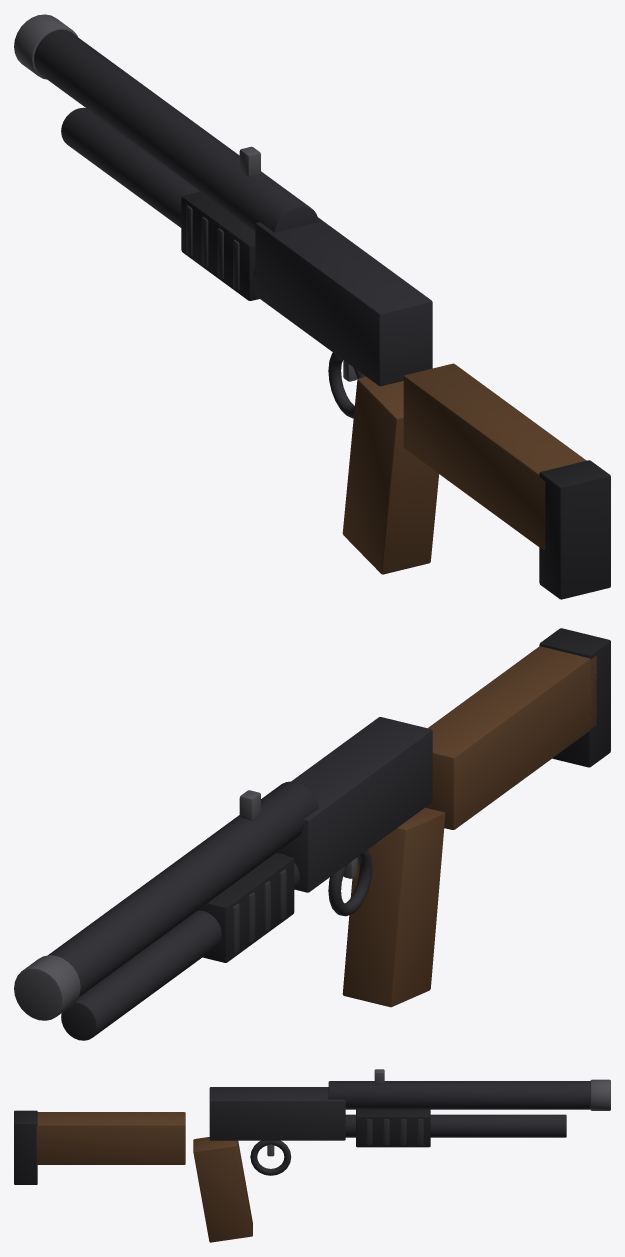
File: shotgun.glb
3 renders of one model, top to bottom at view 1: azimuth 30°, elevation 25°; view 2: azimuth 150°, elevation 25°; view 3: azimuth 270°, elevation 25°, orthographic. The views are drawn at different scales.
Visible parts, largest first — view 1: shotgun; view 2: shotgun; view 3: shotgun.
Boxes of the visible parts, bbox=[...] form: shotgun: bbox=[14, 14, 610, 599]; shotgun: bbox=[14, 628, 610, 1040]; shotgun: bbox=[14, 1069, 610, 1242].
Bounding box in the file's own units: 0.1 × 0.5379 × 1.76.
